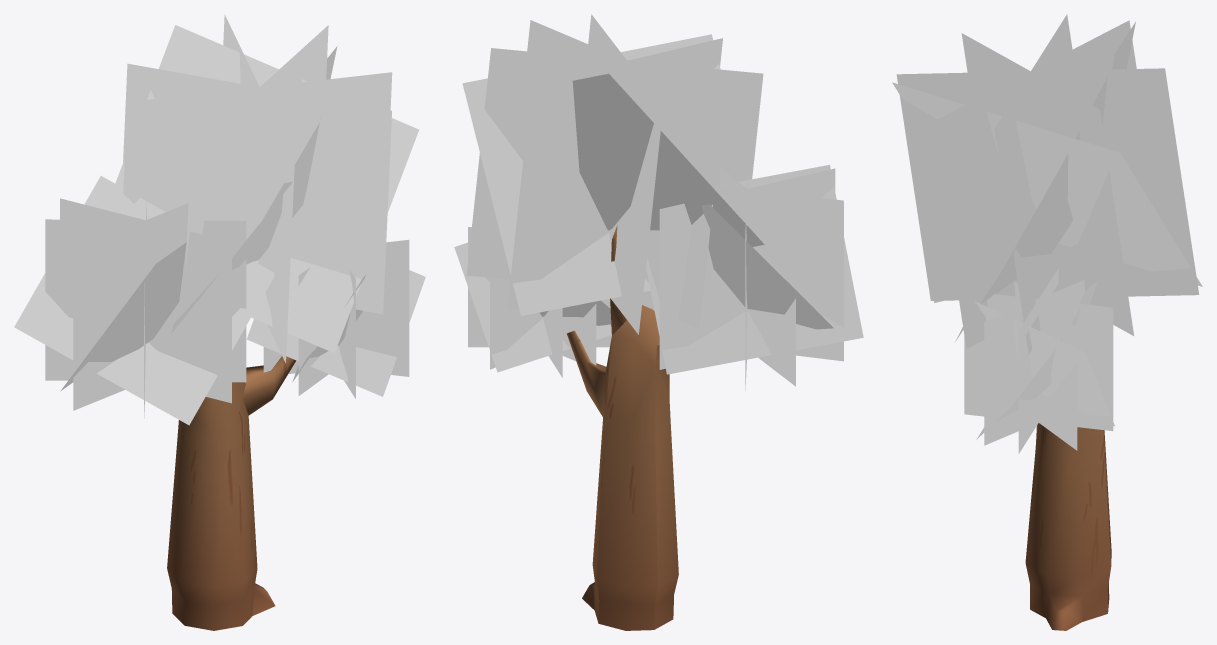
File: Tree_2.fbx
3 views of the same model, side by side, from view 1: azimuth 30°, elevation 25°; view 2: azimuth 150°, elevation 25°; view 3: azimuth 270°, elevation 25° (orthographic). The views are drawn at different scales.
Visible parts, largest first — view 1: Tree2; view 2: Tree2; view 3: Tree2.
Boxes of the visible parts, x1,y1,x2,y2 form: Tree2: (14,14,425,630); Tree2: (454,14,863,630); Tree2: (892,14,1202,630).
Size of the model in its own units: 10.26 by 14.18 by 6.88.
